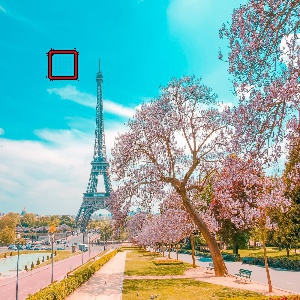square: (47, 50, 78, 80)
